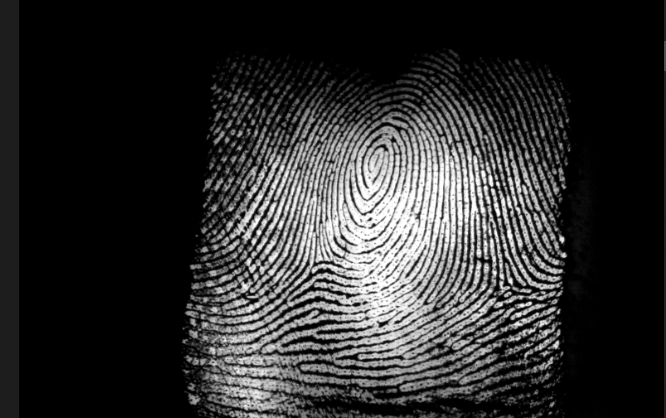nucelo: (360, 131, 394, 189)
verticilo: (492, 252, 533, 296), (302, 253, 329, 282)
